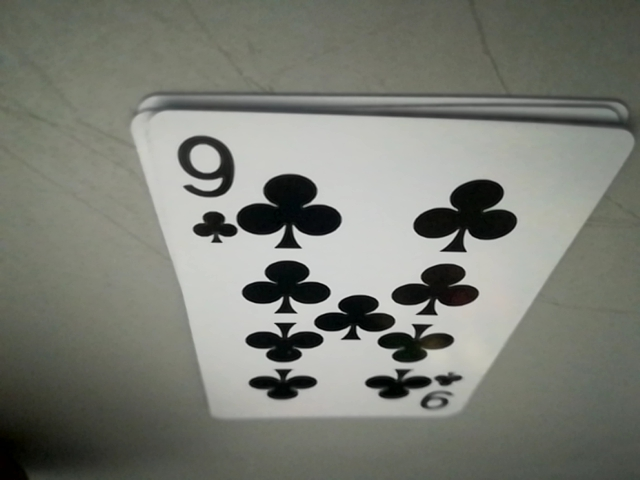mh 9: (163, 115, 241, 247), (420, 362, 468, 416)
